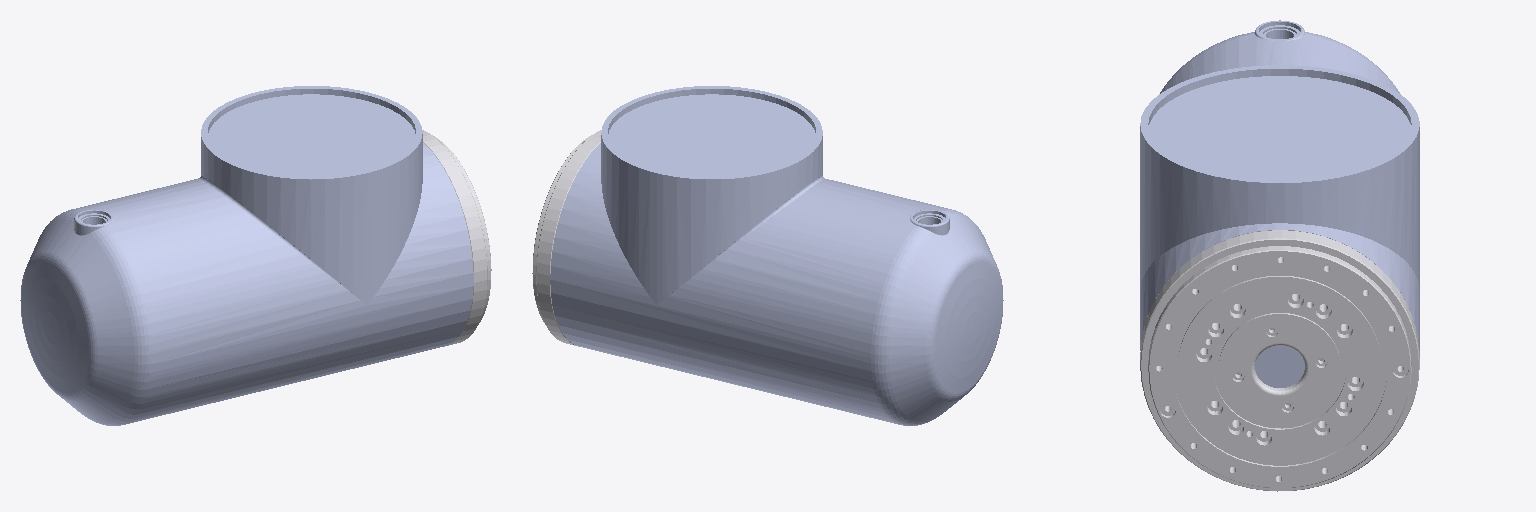
robot.urdf — awjoint2580:
<?xml version="1.0" encoding="utf-8"?>
<!-- This URDF was automatically created by SolidWorks to URDF Exporter! Originally created by [author] ([email redacted]) 
     Commit Version: 1.5.1-0-g916b5db  Build Version: 1.5.7152.31018
     For more information, please see http://wiki.ros.org/sw_urdf_exporter -->
<robot
  name="awjoint2580">
  <link
    name="rifJ25">
    <inertial>
      <origin
        xyz="0 0 -0.086"
        rpy="0 0 0" />
      <mass
        value="8" />
      <inertia
        ixx="0.033132"
        ixy="4.051E-05"
        ixz="5.876E-05"
        iyy="0.019469"
        iyz="-0.00035797"
        izz="0.031908" />
    </inertial>
    <visual>
      <origin
        xyz="0 0 0"
        rpy="0 0 0" />
      <geometry>
        <mesh
          filename="package://awjoint2580/meshes/rifJ25.STL" />
      </geometry>
      <material
        name="">
        <color
          rgba="0.79216 0.81961 0.93333 1" />
      </material>
    </visual>
    <collision>
      <origin
        xyz="0 0 0"
        rpy="0 0 0" />
      <geometry>
        <mesh
          filename="package://awjoint2580/meshes/rifJ25.STL" />
      </geometry>
    </collision>
  </link>
  <link
    name="J25">
    <inertial>
      <origin
        xyz="0 0 -0.0084"
        rpy="0 0 0" />
      <mass
        value="0.51" />
      <inertia
        ixx="0.00070332"
        ixy="0"
        ixz="0"
        iyy="0.00074116"
        iyz="0"
        izz="0.00136991" />
    </inertial>
    <visual>
      <origin
        xyz="0 0 0"
        rpy="0 0 0" />
      <geometry>
        <mesh
          filename="package://awjoint2580/meshes/J25.STL" />
      </geometry>
      <material
        name="">
        <color
          rgba="0.8902 0.8902 0.91373 1" />
      </material>
    </visual>
    <collision>
      <origin
        xyz="0 0 0"
        rpy="0 0 0" />
      <geometry>
        <mesh
          filename="package://awjoint2580/meshes/J25.STL" />
      </geometry>
    </collision>
  </link>
  <joint
    name="J25"
    type="revolute">
    <origin
      xyz="0.0925 0 -0.0875"
      rpy="0 1.5708 0" />
    <parent
      link="rifJ25" />
    <child
      link="J25" />
    <axis
      xyz="0 0 -1" />
    <limit
      lower="-3.14"
      upper="3.14"
      effort="150"
      velocity="2.71" />
    <dynamics
      damping="1"
      friction="0.1" />
  </joint>
</robot>

--- Facts derived from the render (not from the file) ---
3 views of the same robot in one strip: view 1: azimuth 30°, elevation 25°; view 2: azimuth 150°, elevation 25°; view 3: azimuth 270°, elevation 25° (orthographic).
Model awjoint2580 with 2 links and 1 joints (1 revolute), rooted at rifJ25, posed every joint at zero.
Visible links, largest first — view 1: rifJ25, J25; view 2: rifJ25, J25; view 3: rifJ25, J25.
Boxes of the visible links, <box> form: rifJ25: <box>20,86,473,425</box>; J25: <box>423,130,491,346</box>; rifJ25: <box>550,86,1003,425</box>; J25: <box>532,130,601,346</box>; rifJ25: <box>1140,20,1419,404</box>; J25: <box>1140,230,1419,491</box>.
Bounding box of the posed robot: 0.2812 × 0.139 × 0.161 m (x, y, z).
2 mesh visuals loaded from 2 distinct referenced files (2 binary STL).
